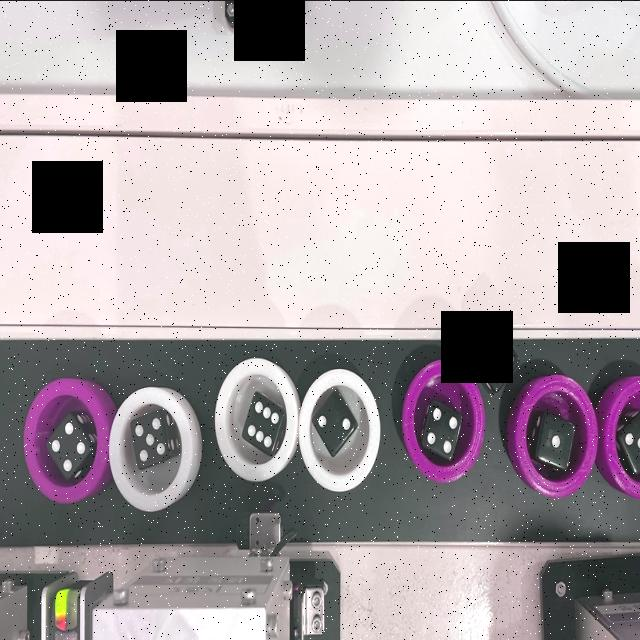DICE1: (542, 430, 564, 453)
DICE2: (314, 407, 352, 438)
DICE3: (621, 426, 640, 456)
DICE4: (48, 424, 86, 476), (426, 407, 459, 455)
DICE5: (477, 332, 514, 384), (132, 412, 168, 462)
DICE6: (244, 398, 276, 448)
RedChip: (27, 385, 113, 511), (515, 376, 597, 498), (402, 357, 482, 482), (606, 374, 640, 498)
WhiteChip: (214, 355, 298, 483), (114, 387, 198, 512), (298, 368, 381, 494)
